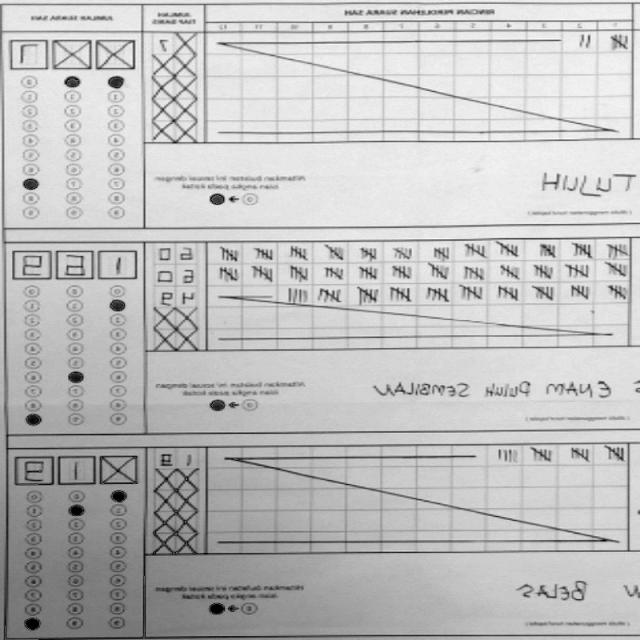Suara: (7, 243, 147, 284), (8, 451, 148, 492), (3, 34, 143, 74)
